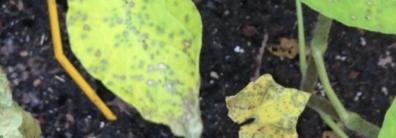Tomato Septoria leaf spot: (70, 0, 258, 138), (233, 0, 396, 104)
